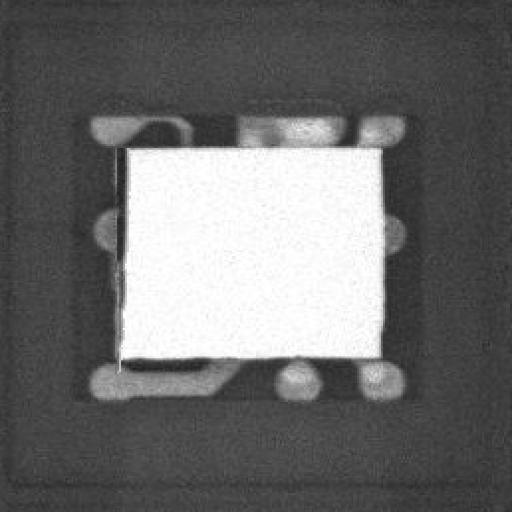DIE_BROKEN: (109, 140, 129, 347)
